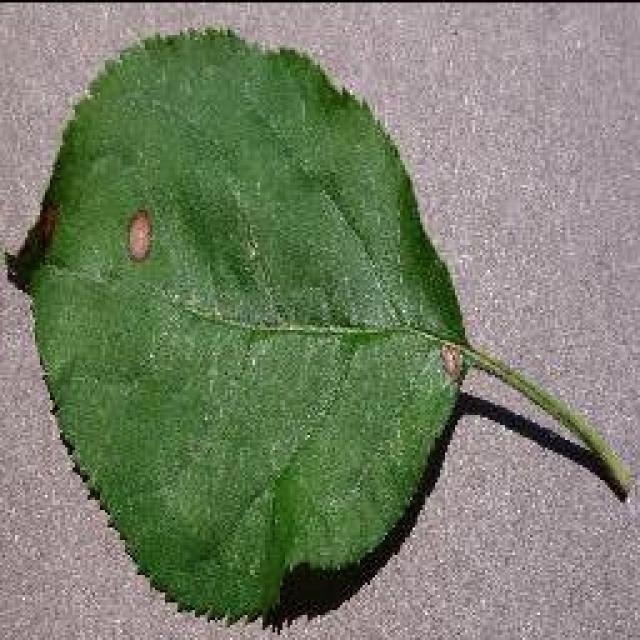Black_rot: (0, 22, 632, 629)
